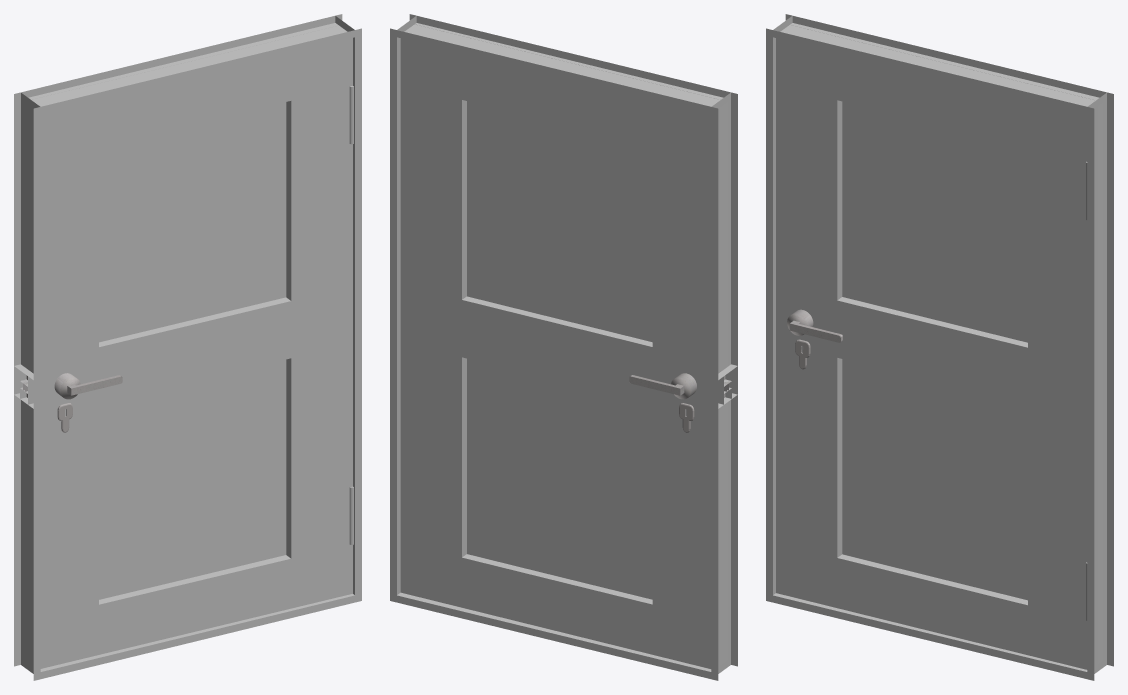
The model's file is OfficeDoorComplete.fbx.
3 views of the same model, side by side, from view 1: azimuth 30°, elevation 25°; view 2: azimuth 150°, elevation 25°; view 3: azimuth 330°, elevation 25° (orthographic).
Visible parts, largest first — view 1: OfficeDoor, OfficeDoorFrame, OfficeDoorHandle; view 2: OfficeDoor, OfficeDoorFrame, OfficeDoorHandle; view 3: OfficeDoor, OfficeDoorFrame, OfficeDoorHandle.
Boxes of the visible parts, <box> form: OfficeDoor: <box>29,34,352,668</box>; OfficeDoorFrame: <box>14,14,361,680</box>; OfficeDoorHandle: <box>67,375,122,395</box>; OfficeDoor: <box>400,24,727,668</box>; OfficeDoorFrame: <box>390,14,737,680</box>; OfficeDoorHandle: <box>629,375,684,395</box>; OfficeDoor: <box>776,29,1103,669</box>; OfficeDoorFrame: <box>766,14,1113,680</box>; OfficeDoorHandle: <box>789,320,842,342</box>.
Bounding box in the file's own units: 192 × 320 × 34.16.
